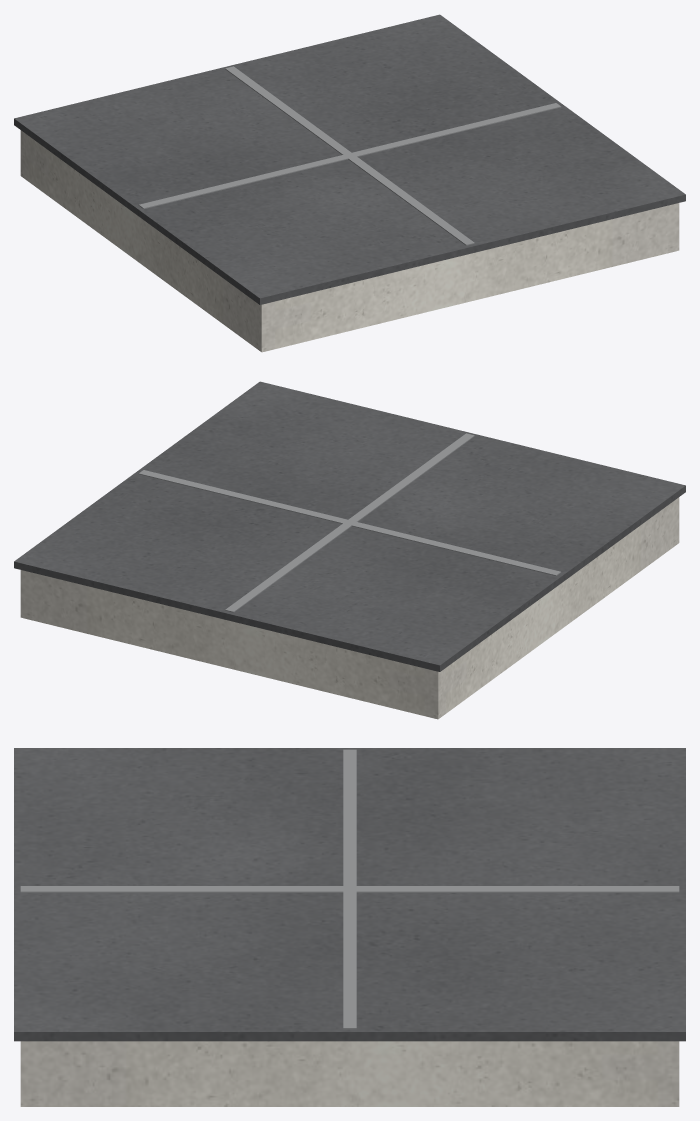
Rendered from floor_membrane_r.glb.
3 views of the same model, one above another, from view 1: azimuth 30°, elevation 25°; view 2: azimuth 150°, elevation 25°; view 3: azimuth 270°, elevation 25° (orthographic). The views are drawn at different scales.
Parts seen in each view (by area): view 1: floor_membrane_r_membrane, floor_membrane_r_plaster, floor_membrane_r_seam; view 2: floor_membrane_r_membrane, floor_membrane_r_plaster, floor_membrane_r_seam; view 3: floor_membrane_r_membrane, floor_membrane_r_plaster, floor_membrane_r_seam.
Part boxes in pixels (<box>): floor_membrane_r_membrane: <box>14,14,685,304</box>; floor_membrane_r_plaster: <box>20,130,679,352</box>; floor_membrane_r_seam: <box>138,66,561,245</box>; floor_membrane_r_membrane: <box>14,381,685,671</box>; floor_membrane_r_plaster: <box>20,497,679,719</box>; floor_membrane_r_seam: <box>138,433,561,612</box>; floor_membrane_r_membrane: <box>14,748,685,1041</box>; floor_membrane_r_plaster: <box>20,1041,679,1106</box>; floor_membrane_r_seam: <box>20,749,679,1029</box>.
Size of the model in its own units: 2 by 0.259 by 2.
Materials: 3 (2 with a texture image).
